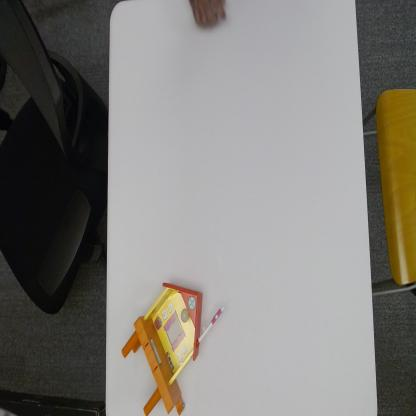Hand: (186, 0, 229, 31)
House: (122, 280, 219, 415)
